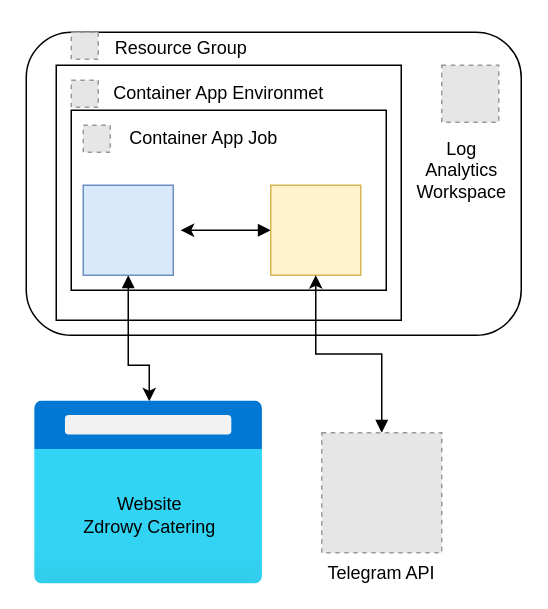
Some shapes in this 548 by 609 pixel diagram are drawn without their labels. Grey dashed boxes stand in for pictures. The box of each missing label's shape, as (x1, y1, x2, y2) in pixels:
Script Scraper: (269, 184, 361, 275)
Selenium Chrome: (82, 184, 173, 275)
